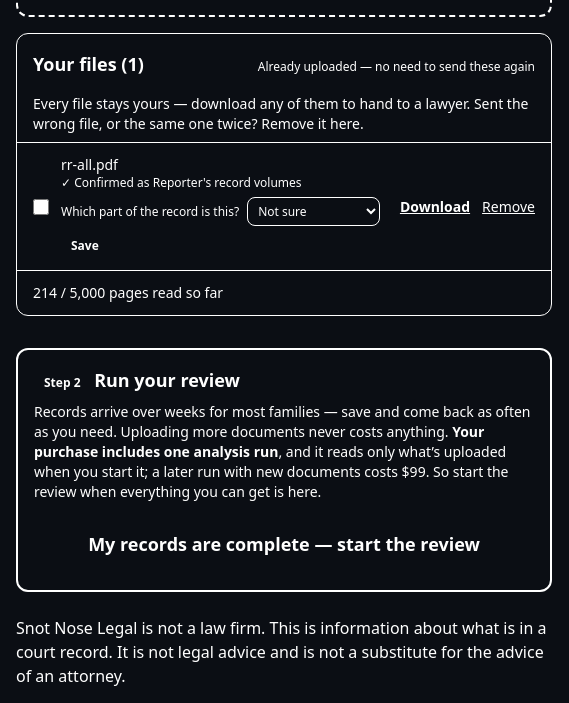
Test: documents page — overage offer card (K2) › renders the 402 as the offer card with the exact block count and total, and no raw error text
(page scrolled)
What coordinates should you click on to do the following:
click the button "My records are complete — start the review"
I would click on:
 (284, 544)
Its box is [34, 514, 534, 574].
(page scrolled)
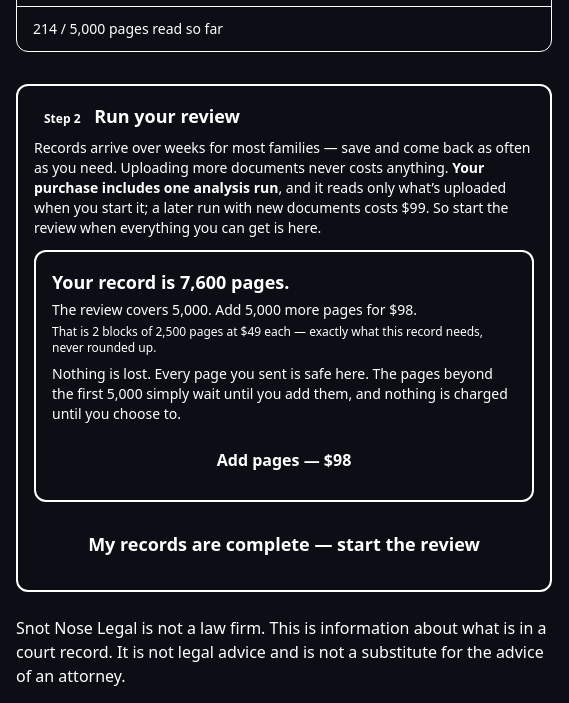
Check: the element with test id "overage-card" shows "Your record is 7,600 pages.", box [52, 270, 289, 294]
Check: the element with test id "overage-card" shows "The review covers 5,000. Add 5,000 more pages for $98.", box [52, 300, 417, 319]
Check: the element with test id "overage-card" shows "2 blocks of 2,500 pages at $49 each", box [52, 323, 483, 356]
